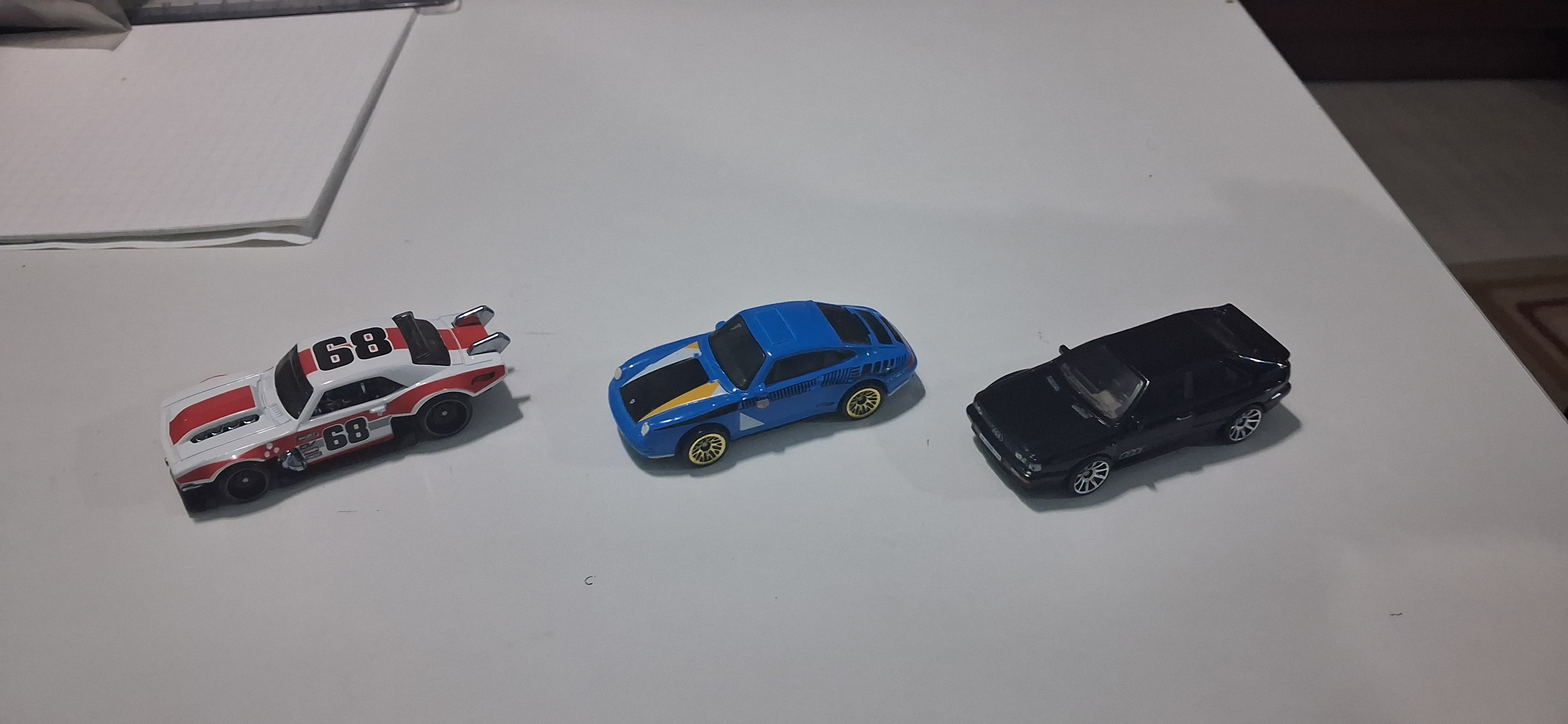Audi_Quattro: (961, 266, 1375, 589)
Camaro: (107, 269, 543, 532)
Porsche_Carrera: (579, 264, 941, 524)
